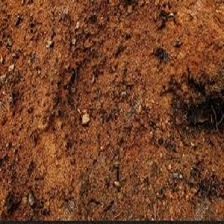clay_soil: (2, 27, 218, 206)
